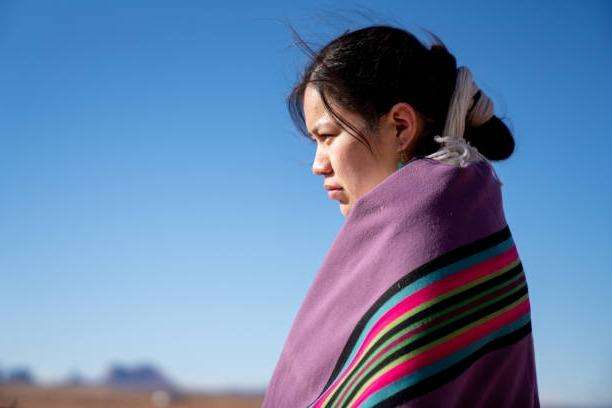Human: (289, 19, 526, 408)
